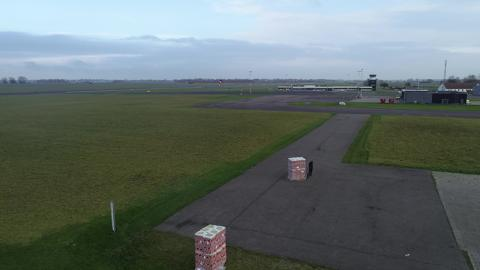RockwoolPallet: (195, 223, 227, 269)
